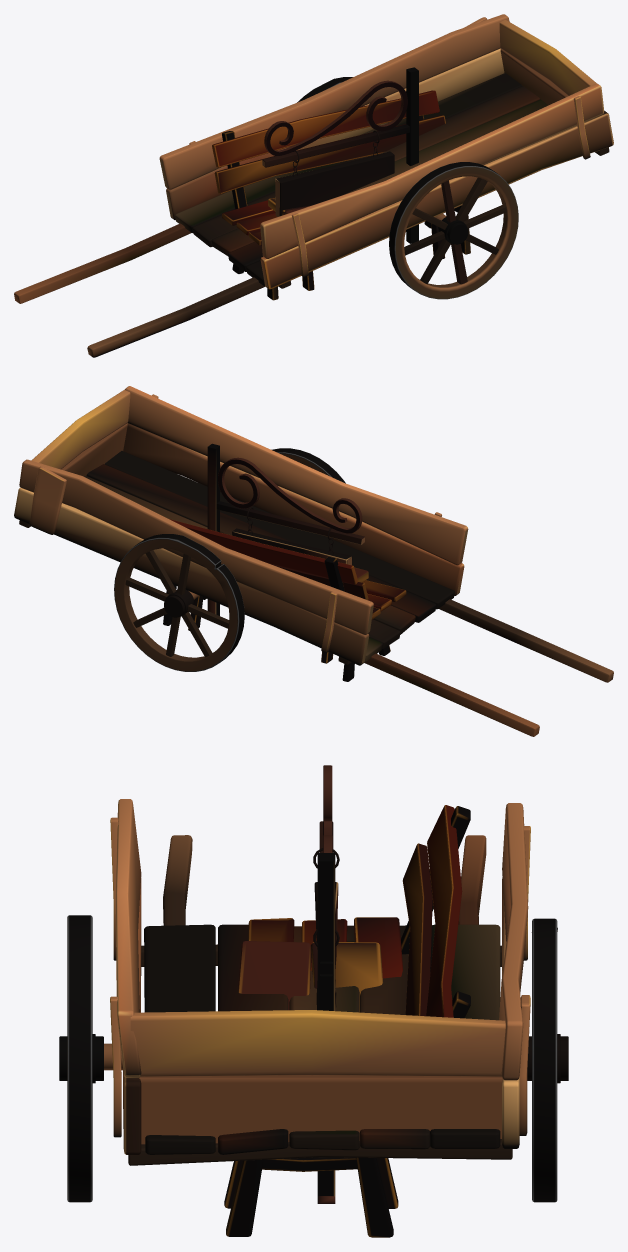
Rendered from ModCart01.fbx.
3 views of the same model, one above another, from view 1: azimuth 30°, elevation 25°; view 2: azimuth 150°, elevation 25°; view 3: azimuth 270°, elevation 25° (orthographic). The views are drawn at different scales.
Parts seen in each view (by area): view 1: ModCart01, ModBench01, ModAdvert01, ModSmallBench01; view 2: ModCart01, ModAdvert01, ModBench01, ModSmallBench01; view 3: ModCart01, ModBench01, ModSmallBench01, ModAdvert01.
Part boxes in pixels (left/top/right/bottom): ModCart01: left=14, top=14, right=613, bottom=357; ModBench01: left=212, top=90, right=470, bottom=300; ModAdvert01: left=262, top=67, right=418, bottom=243; ModSmallBench01: left=268, top=198, right=445, bottom=290; ModCart01: left=14, top=386, right=613, bottom=736; ModAdvert01: left=207, top=443, right=364, bottom=615; ModBench01: left=163, top=519, right=406, bottom=681; ModSmallBench01: left=188, top=567, right=368, bottom=663; ModCart01: left=59, top=799, right=568, bottom=1202; ModBench01: left=226, top=805, right=470, bottom=1237; ModSmallBench01: left=224, top=941, right=398, bottom=1208; ModAdvert01: left=313, top=765, right=339, bottom=1203.
Size of the model in its own units: 5.48 by 1.84 by 2.36.
